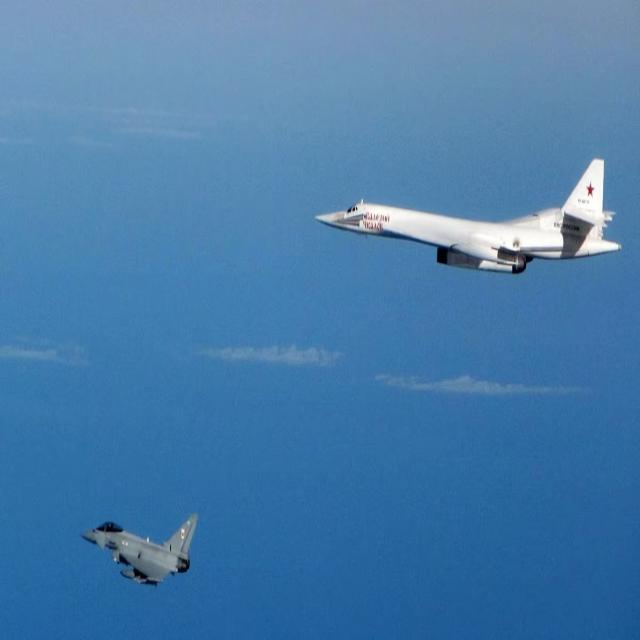Tu160: (305, 145, 640, 312), (68, 483, 218, 612)
